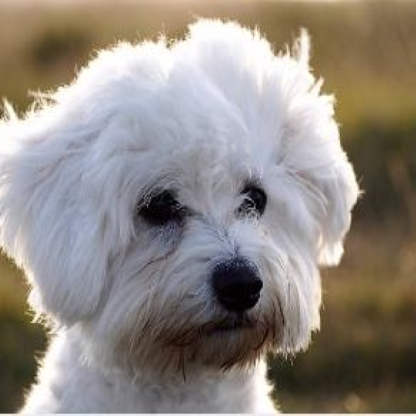maltese: (4, 20, 358, 412)
